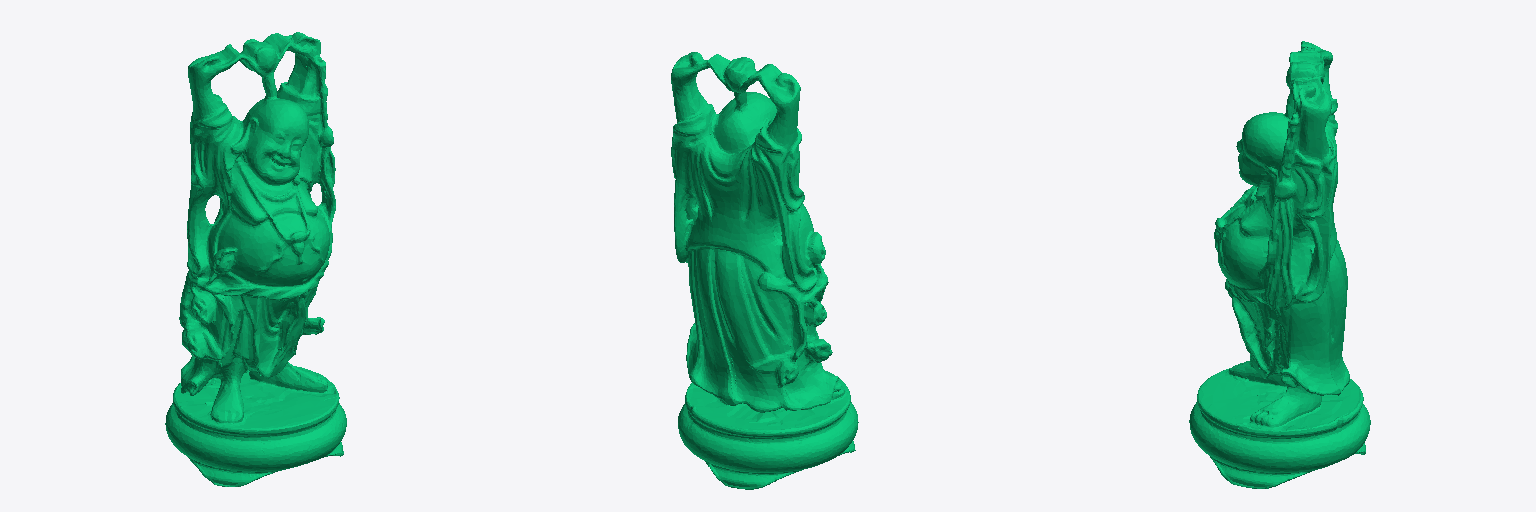
Rendered from buddha.obj.
The picture shows the model from 3 angles: view 1: azimuth 30°, elevation 25°; view 2: azimuth 150°, elevation 25°; view 3: azimuth 270°, elevation 25°; orthographic projection.
Visible parts, largest first — view 1: happy_vrip; view 2: happy_vrip; view 3: happy_vrip.
Boxes of the visible parts, box(x1,y1,x2,y2) form: happy_vrip: box(165, 32, 346, 486); happy_vrip: box(671, 52, 858, 489); happy_vrip: box(1189, 41, 1370, 488).
Bounding box in the file's own units: 1.78 × 4.32 × 1.78.